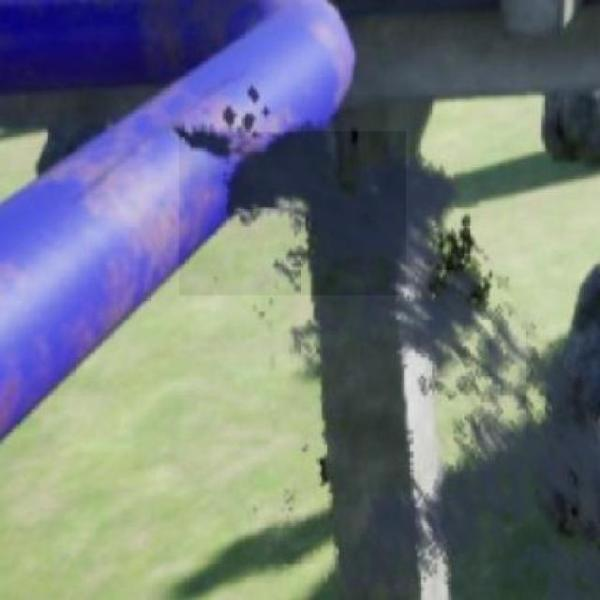gas: (179, 131, 405, 295)
